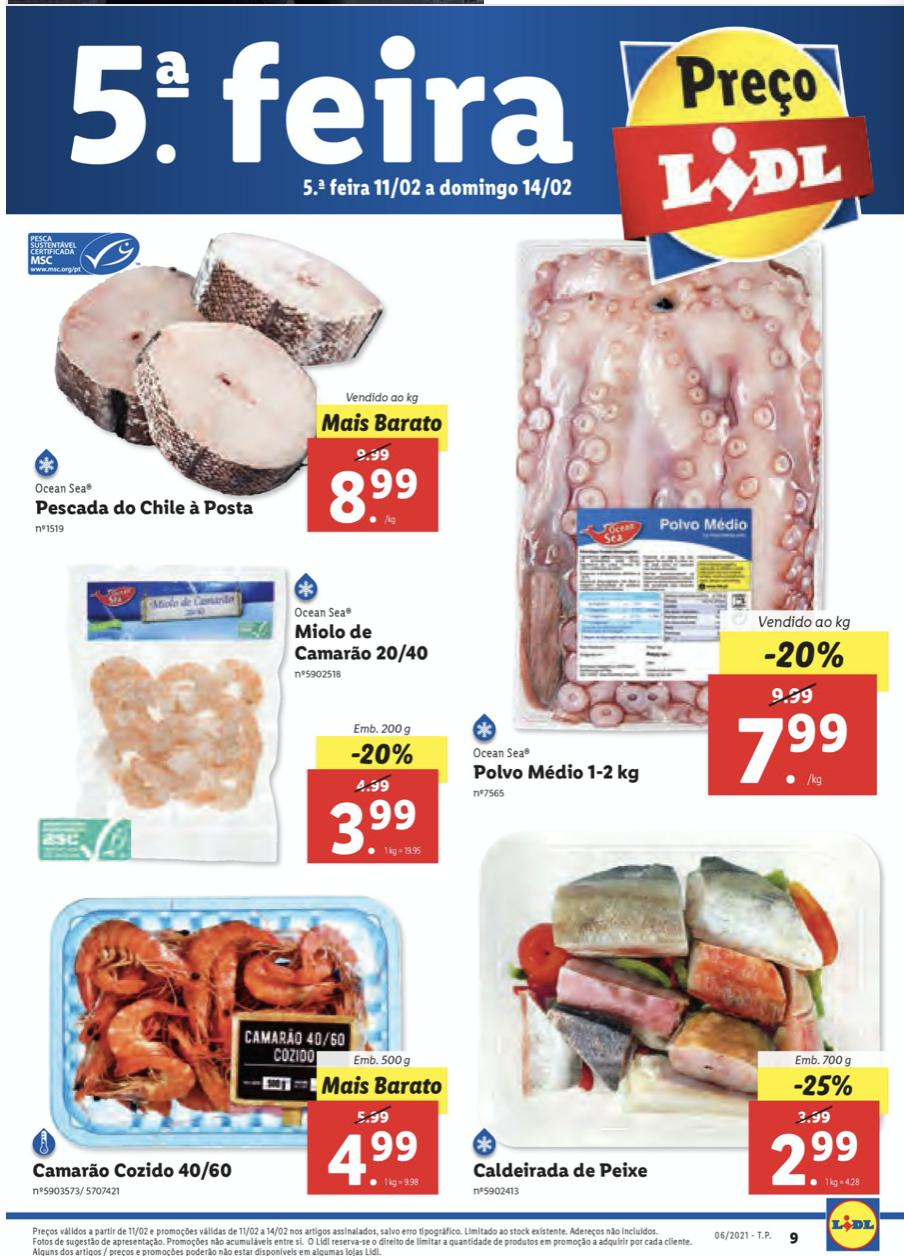name: (30, 493, 259, 529), (291, 616, 434, 672), (28, 1154, 234, 1183), (470, 1157, 652, 1185), (473, 757, 648, 786)
price: (736, 707, 853, 797), (322, 461, 441, 538), (766, 1124, 866, 1193), (325, 1129, 431, 1194), (327, 794, 428, 861)
product: (475, 236, 887, 804), (459, 808, 892, 1205), (6, 224, 458, 558), (20, 555, 458, 880), (22, 888, 452, 1207)
promotion: (761, 635, 852, 674), (344, 739, 419, 772), (792, 1071, 855, 1104)
